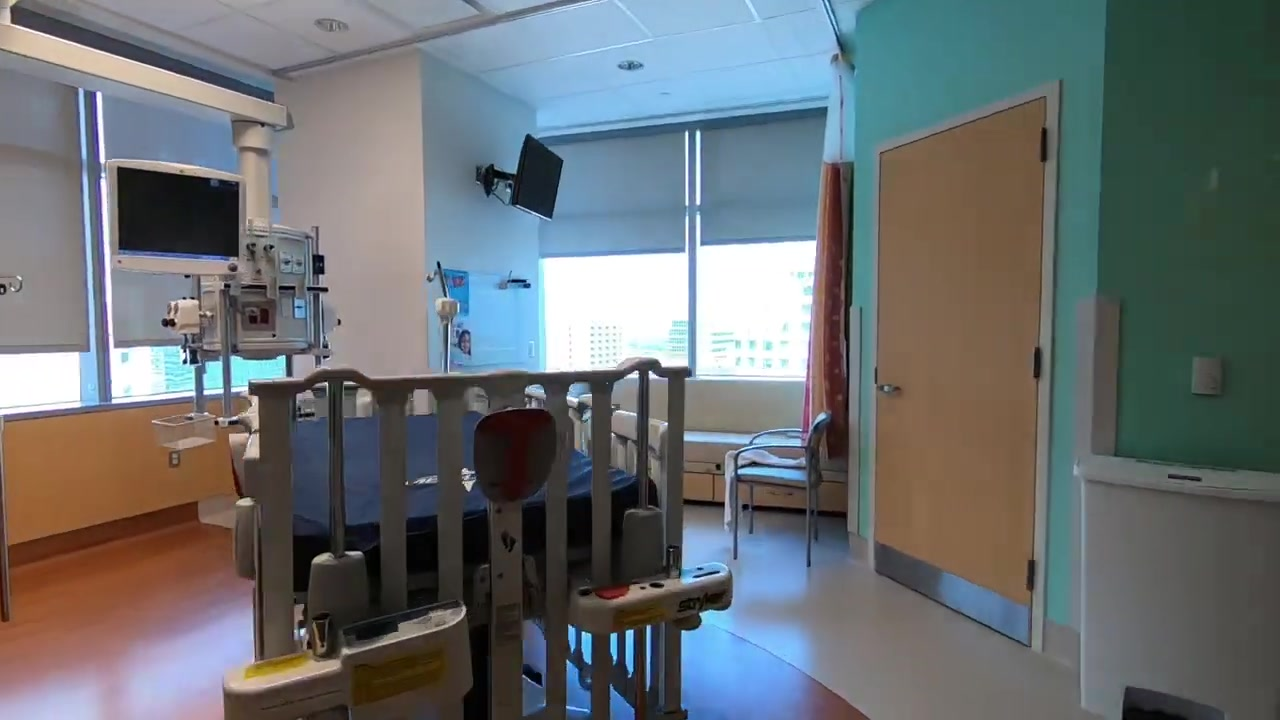TV: (507, 135, 564, 227)
bedrail: (496, 388, 671, 513), (227, 408, 266, 582)
bedside_monitor: (109, 160, 246, 276)
chair: (728, 410, 831, 569)
curtain: (801, 50, 854, 465)
door_handle: (878, 382, 904, 396)
handle: (767, 489, 793, 497)
hospital_bed: (236, 358, 731, 720)
iv_pole: (425, 262, 462, 375)
waste_bin: (1073, 450, 1280, 720)
